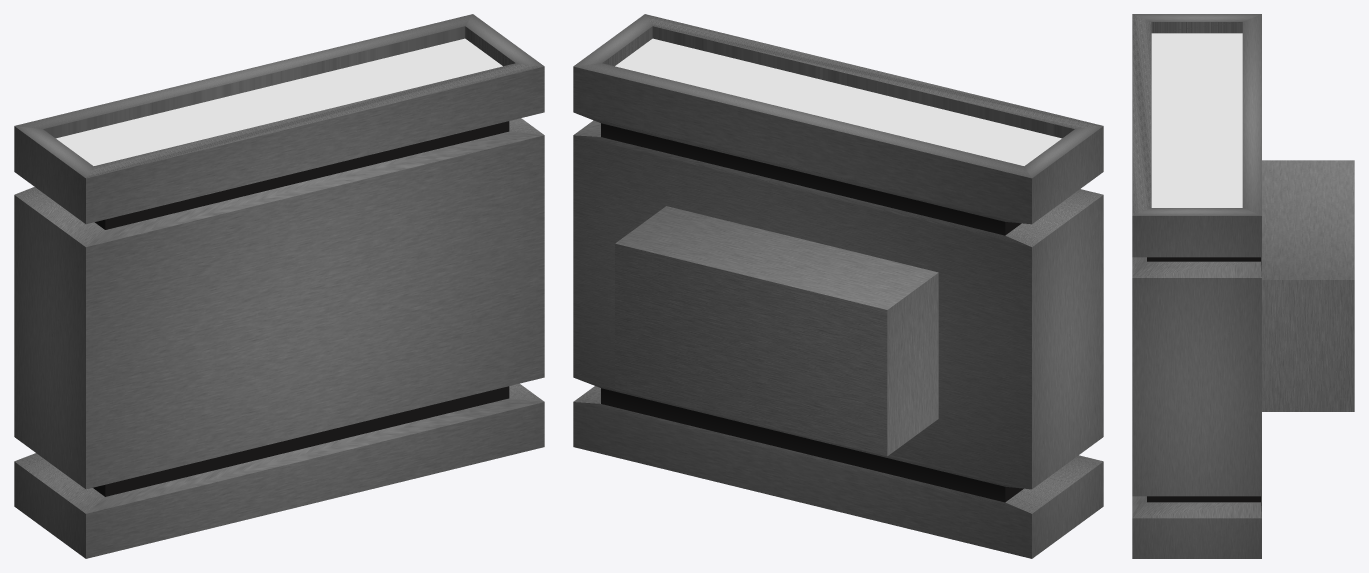
Rendered from Wall lamp.FBX.
3 views of the same model, side by side, from view 1: azimuth 30°, elevation 25°; view 2: azimuth 150°, elevation 25°; view 3: azimuth 270°, elevation 25° (orthographic). The views are drawn at different scales.
Parts seen in each view (by area): view 1: wall lamp; view 2: wall lamp; view 3: wall lamp.
Boxes of the visible parts, x1,y1,x2,y2 form: wall lamp: [14, 14, 544, 558]; wall lamp: [573, 14, 1103, 558]; wall lamp: [1132, 14, 1354, 558].
Bounding box in the file's own units: 23.18 × 18.36 × 10.77.
2 materials, 1 textured.
